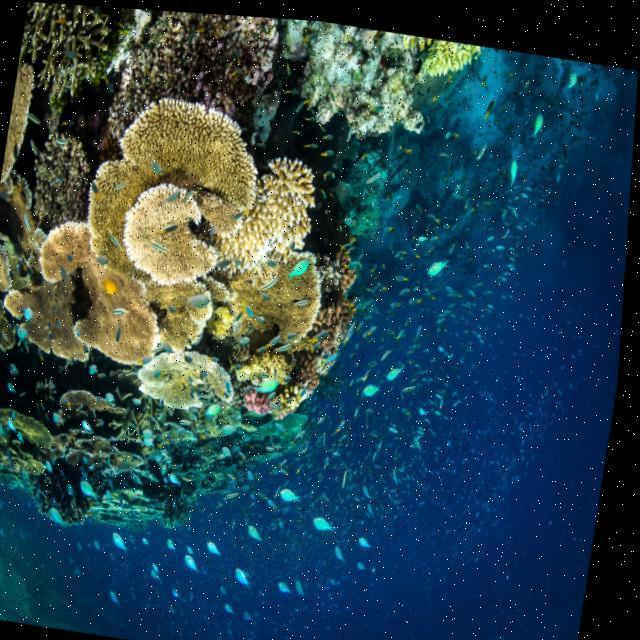Bleached Coral: (222, 141, 333, 282)
Healthy Coral: (68, 77, 282, 293), (0, 207, 178, 375), (284, 235, 371, 421), (124, 340, 253, 421), (0, 57, 47, 196), (0, 397, 63, 460), (62, 382, 138, 420), (426, 31, 475, 76), (250, 373, 279, 418)
